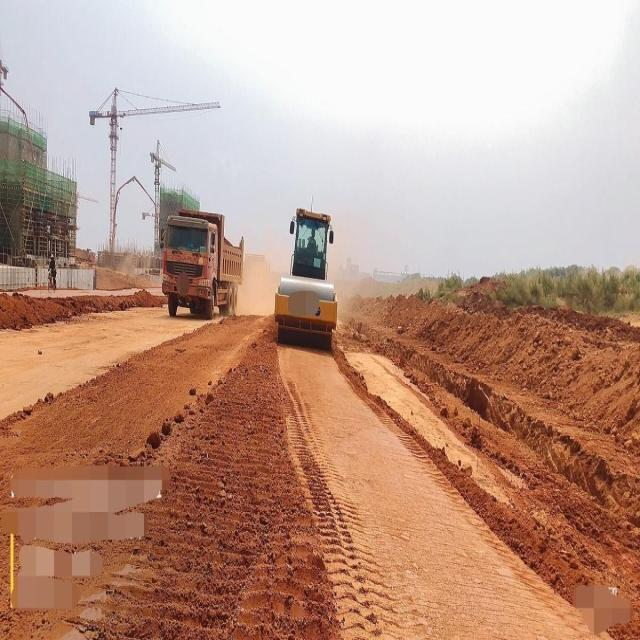crane: (88, 80, 230, 259), (145, 132, 183, 244)
truck: (155, 205, 248, 329), (104, 173, 162, 269)
